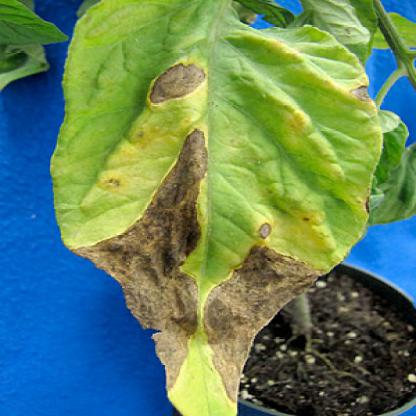tomato leaf late blight: (50, 2, 391, 415)
